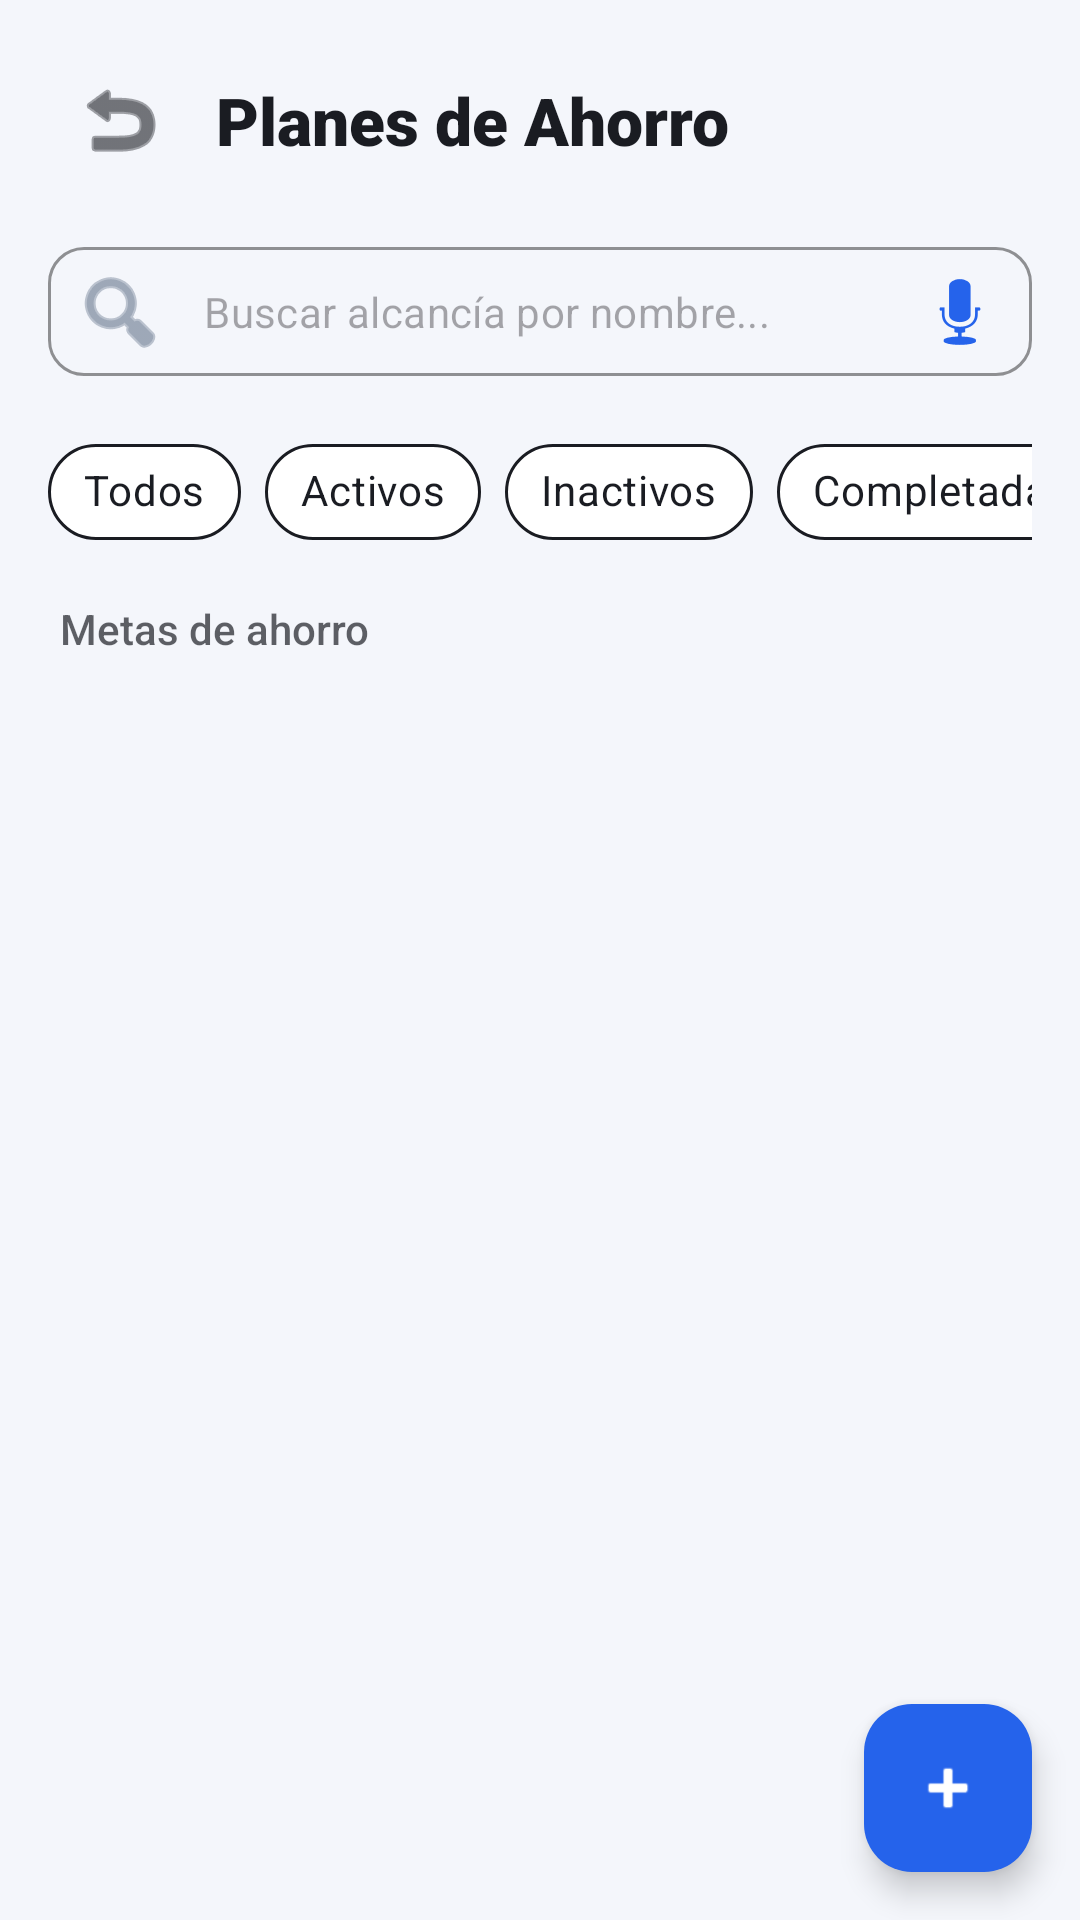

Where to tap for icons on this 1080x1920 app screen, as (x,y):
add: (948,1788)
revert: (121,120)
